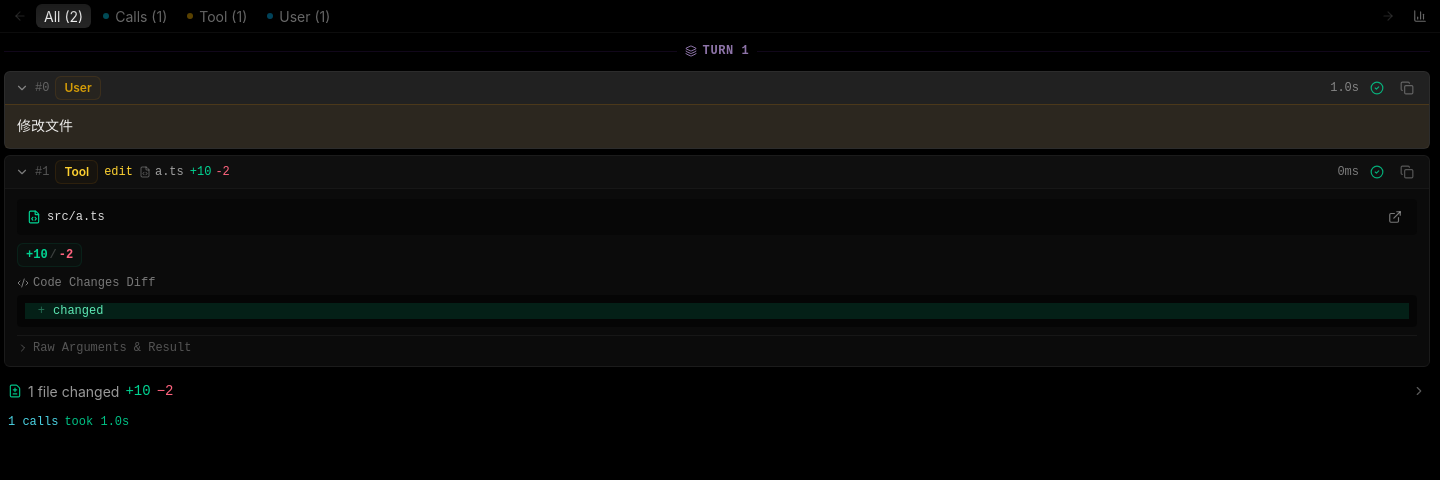
Test case: AgentExecutionFlowList 文件修改统计 › 用户步骤时间戳贯通为文件回退上下文
Expected: the element with test id "file-changes-card" is shown, [4, 379, 1430, 404]
Click the text "1 file changed".
click(74, 391)  # box [28, 381, 119, 402]
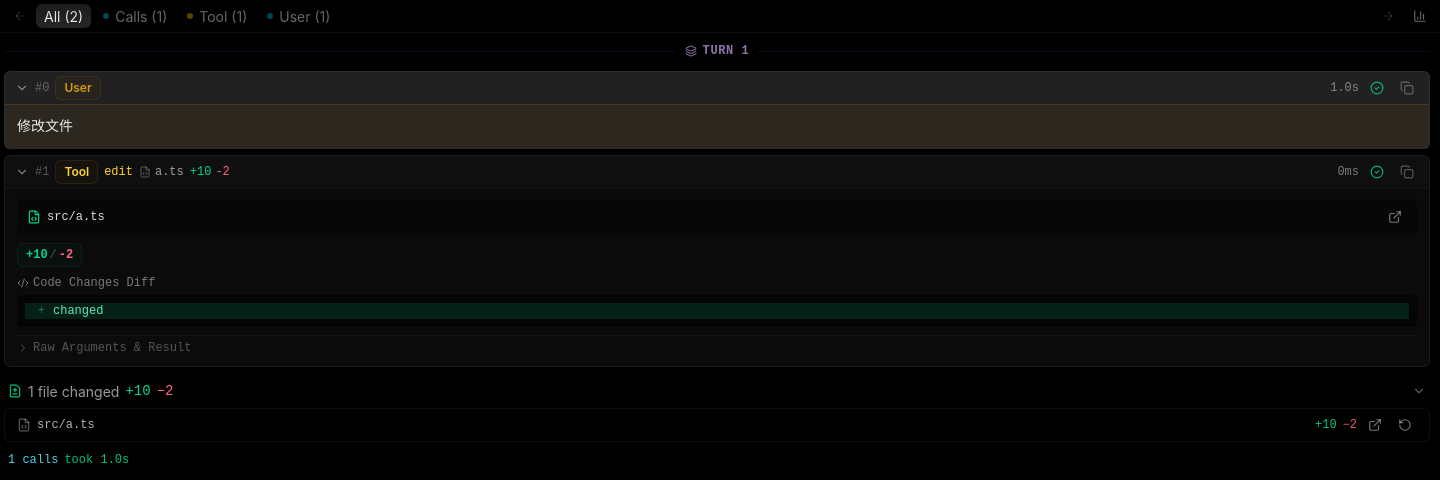
Result: the button with class "agent-file-changes-revert" is shown at [1393, 413, 1417, 437]
